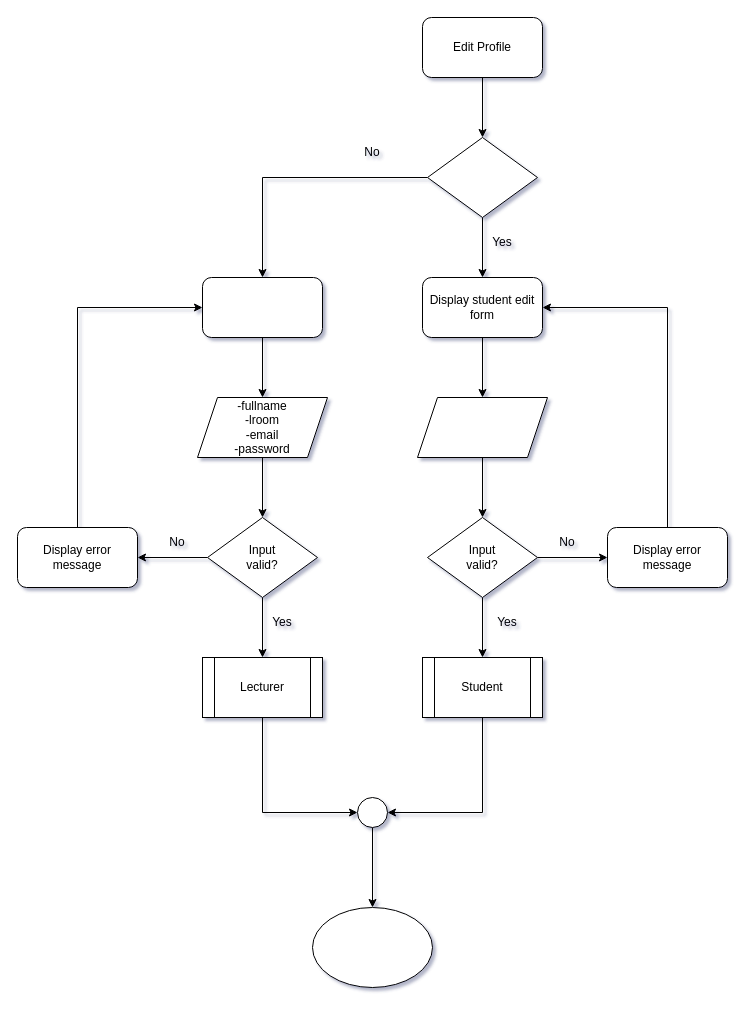
Image size: 751x1011. Some labels were removed from this diagram. Each missing label, with the centre of its shape:
-fullname -studentid -email -password: (x=482, y=427)
Display lecturer edit form: (x=262, y=307)
End: (x=372, y=947)
Student?: (x=482, y=177)
